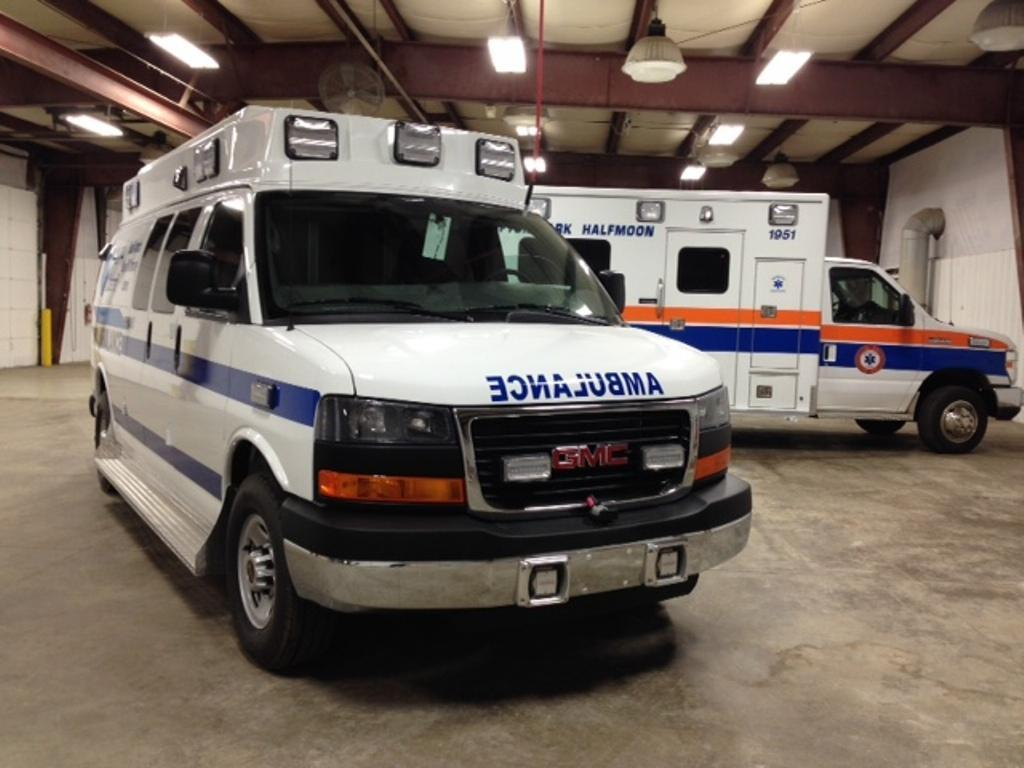Ambulance: (483, 371, 672, 408)
